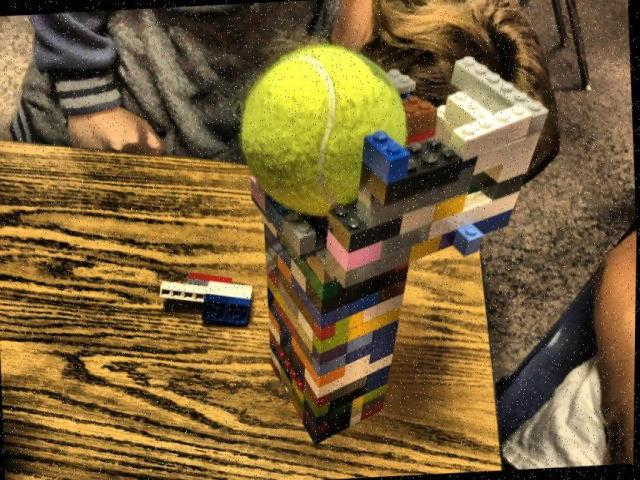tennis-ball: (235, 40, 408, 215)
